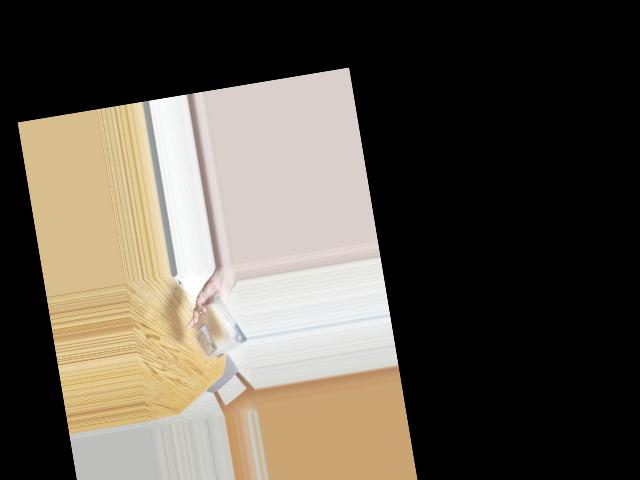cheese: (189, 298, 245, 361)
